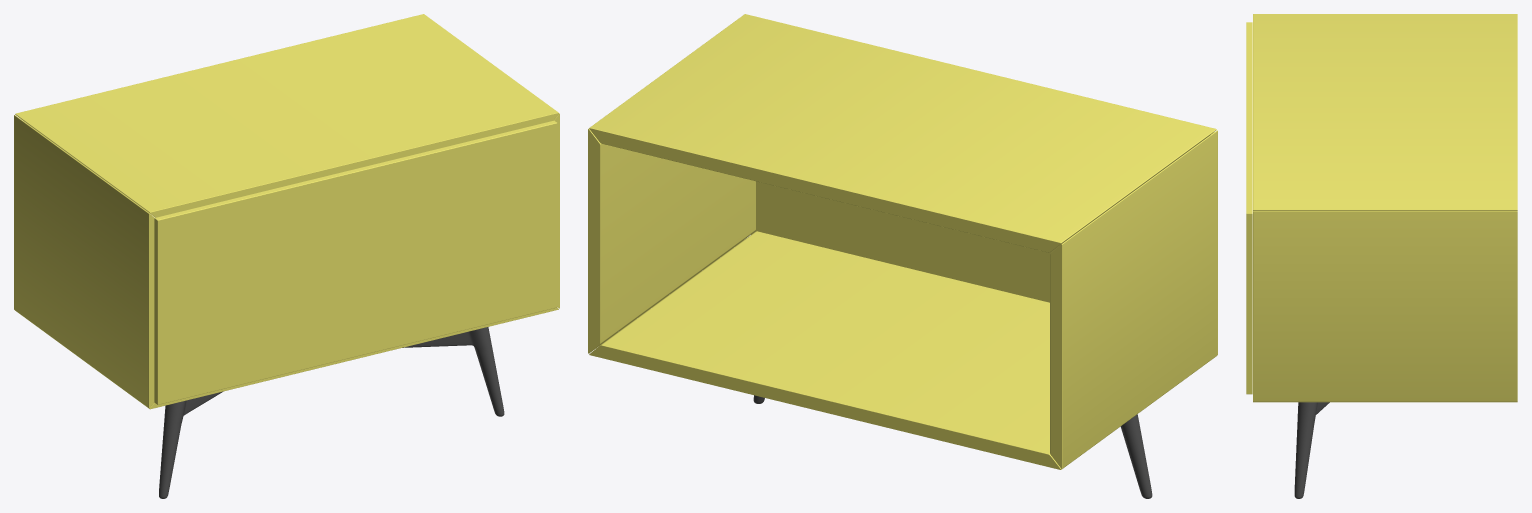
File: _eTuDo.001.fbx
3 renders of one model, left to right at view 1: azimuth 30°, elevation 25°; view 2: azimuth 150°, elevation 25°; view 3: azimuth 270°, elevation 25°, orthographic. The views are drawn at different scales.
Parts seen in each view (by area): view 1: KeTuDo.001, Box005, Cylinder008, Cylinder009; view 2: KeTuDo.001, Box005, Cylinder009; view 3: KeTuDo.001, Box005, Cylinder008.
Boxes of the visible parts, x1,y1,x2,y2 form: KeTuDo.001: [14, 14, 559, 409]; Box005: [154, 120, 557, 404]; Cylinder008: [402, 327, 504, 416]; Cylinder009: [159, 391, 223, 498]; KeTuDo.001: [588, 14, 1217, 469]; Box005: [751, 132, 1214, 302]; Cylinder009: [1120, 414, 1152, 498]; KeTuDo.001: [1253, 14, 1517, 402]; Box005: [1246, 22, 1252, 394]; Cylinder008: [1294, 402, 1329, 498].
Bounding box in the file's own units: 0.5798 × 0.42 × 0.3384.
